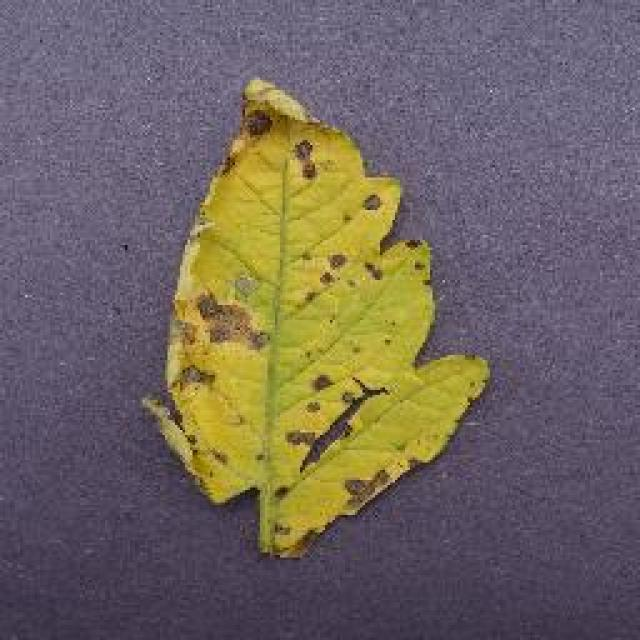Tom_Septoria_leaf_spot: (278, 369, 407, 531), (205, 75, 345, 199), (308, 188, 428, 318), (165, 273, 277, 395)
